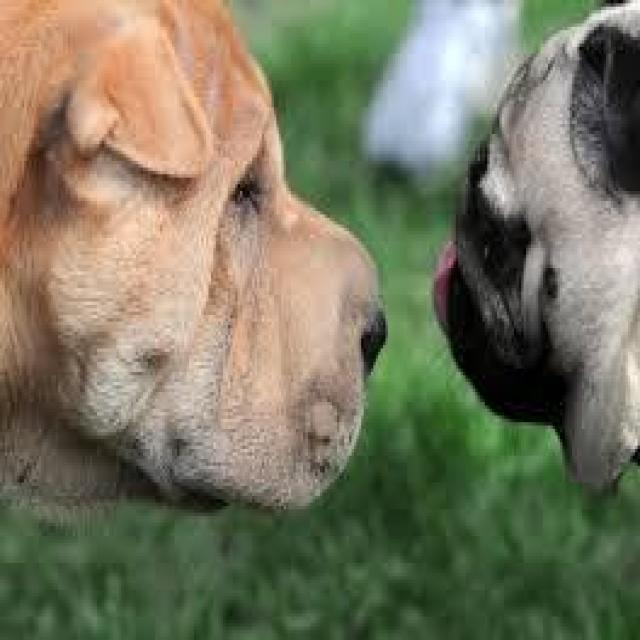Dog: (14, 0, 396, 526), (429, 1, 640, 500)
